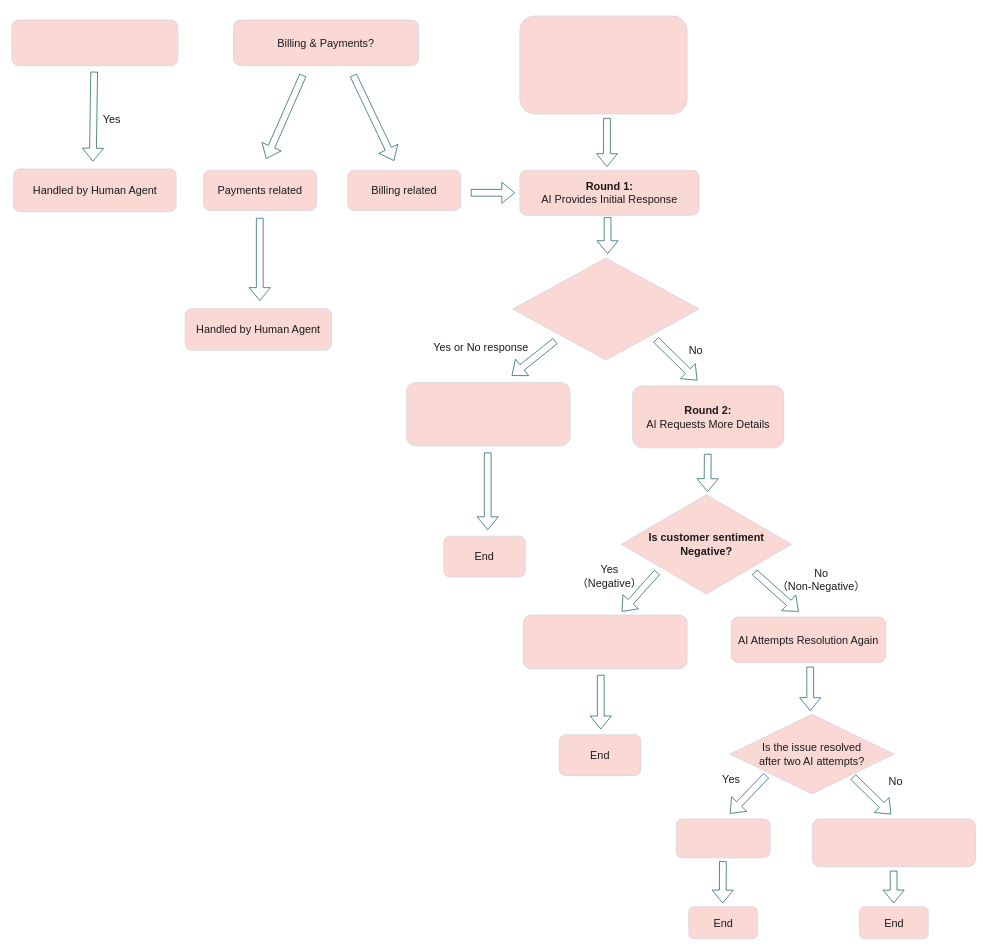
This 987x951 diagram has some shape labels left out. The shapes that lost their labels are listed below. From the top down, each one's centre as x and y in pixels, then its label:
At point (94, 42): "Sales and Pre-Sales / Security?".
At point (603, 64): "Account IT & Technical Support Returns & Exchange General".
At point (605, 308): "Is the issue resolved? (User feedback) Two Options: Yes / No".
At point (488, 414): "Issue Considered Resolved (User confirms or no response)".
At point (605, 641): "Transfer to Human Agent (Negative sentiment detected)".
At point (723, 838): "Issue Resolved".
At point (893, 842): "Transfer to Human Agent (Maximum AI attempts reached)".
